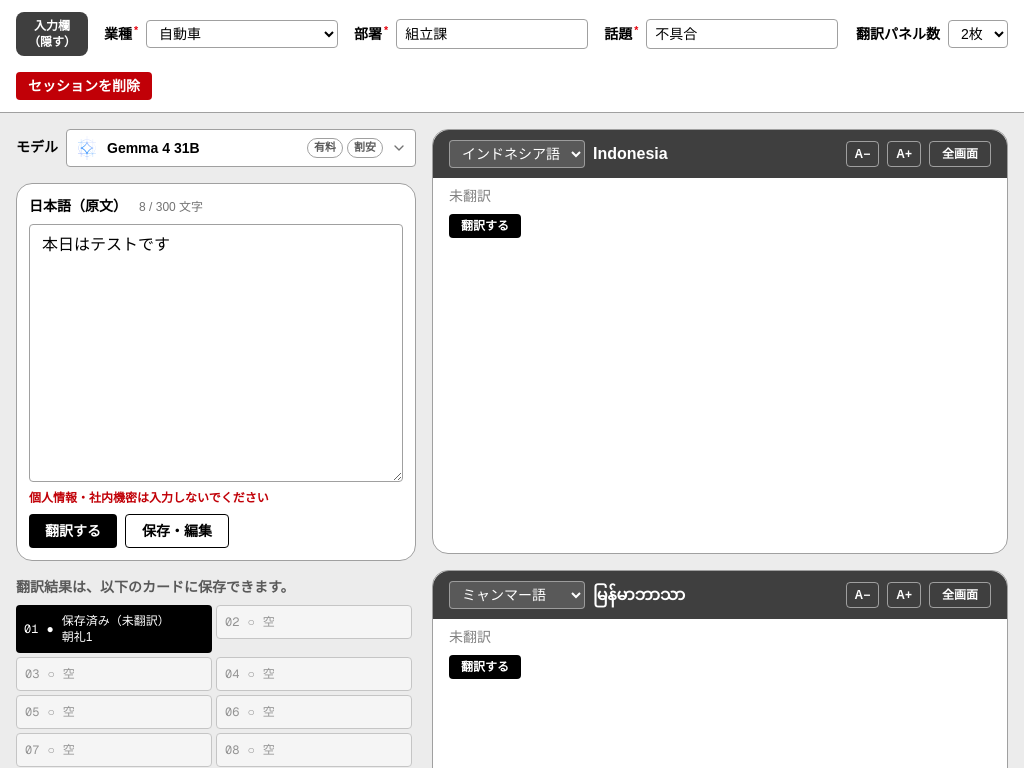
Scenario: HomePage translation › shows the results and marks the active card translated
Check: the text box showing "本日はテストです" is shown, box x1=29 y1=224 x2=403 y2=482
Click the button "翻訳する" below "個人情報・社内機密は入力しないでください": [73, 531] box x1=29 y1=514 x2=117 y2=548
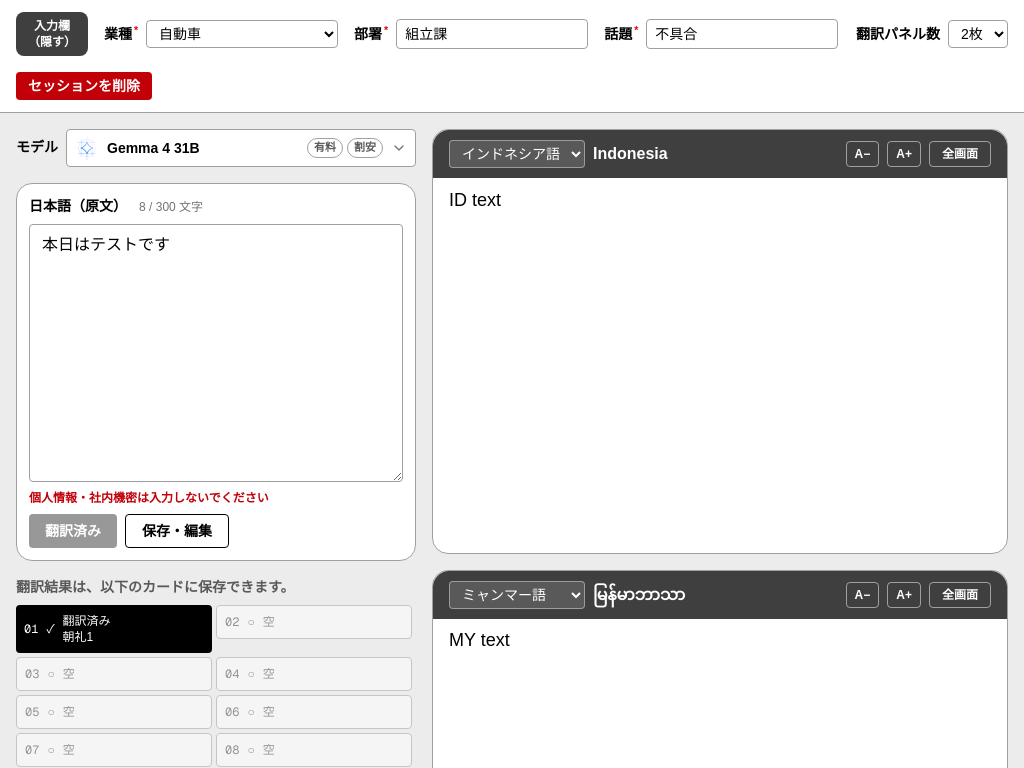
Check: the text "ID text" is shown, box x1=449 y1=190 x2=501 y2=210
Check: the text "MY text" is shown, box x1=449 y1=627 x2=510 y2=661
Check: the text "翻訳済み" is shown, box x1=63 y1=613 x2=111 y2=629
